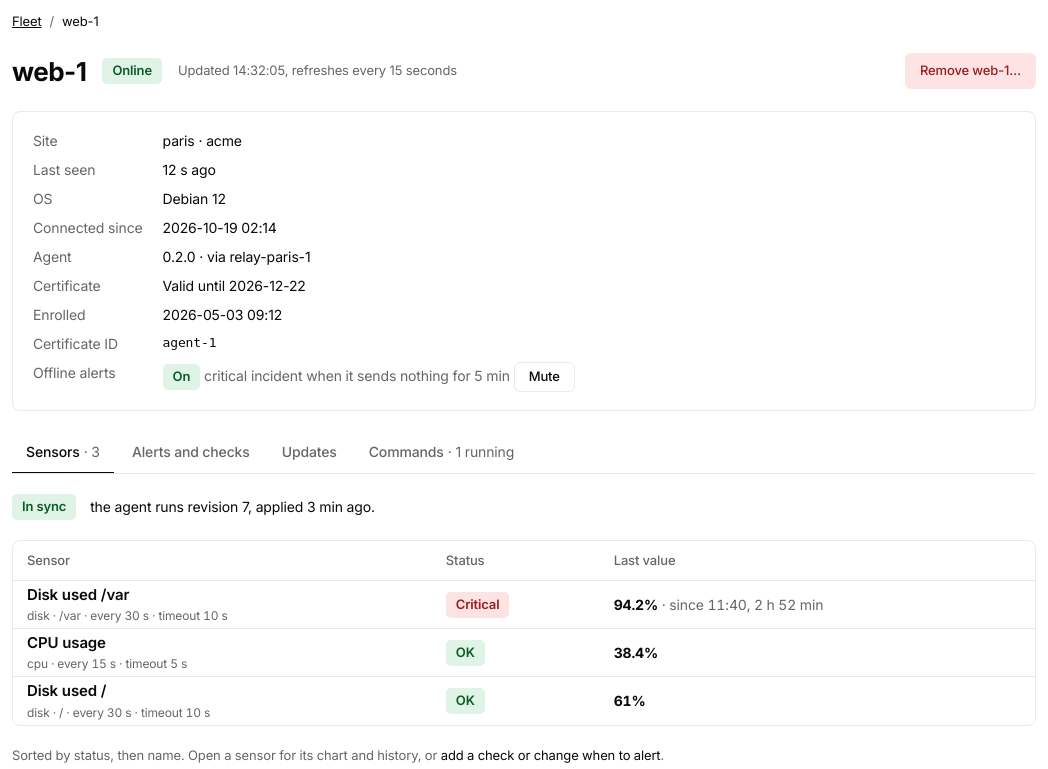
Test: ServerPage › lets administrators of the customer remove the server, then shows how to uninstall it
Click the button "Remove web-1…": coordinates (970, 71) x1=905 y1=53 x2=1036 y2=89
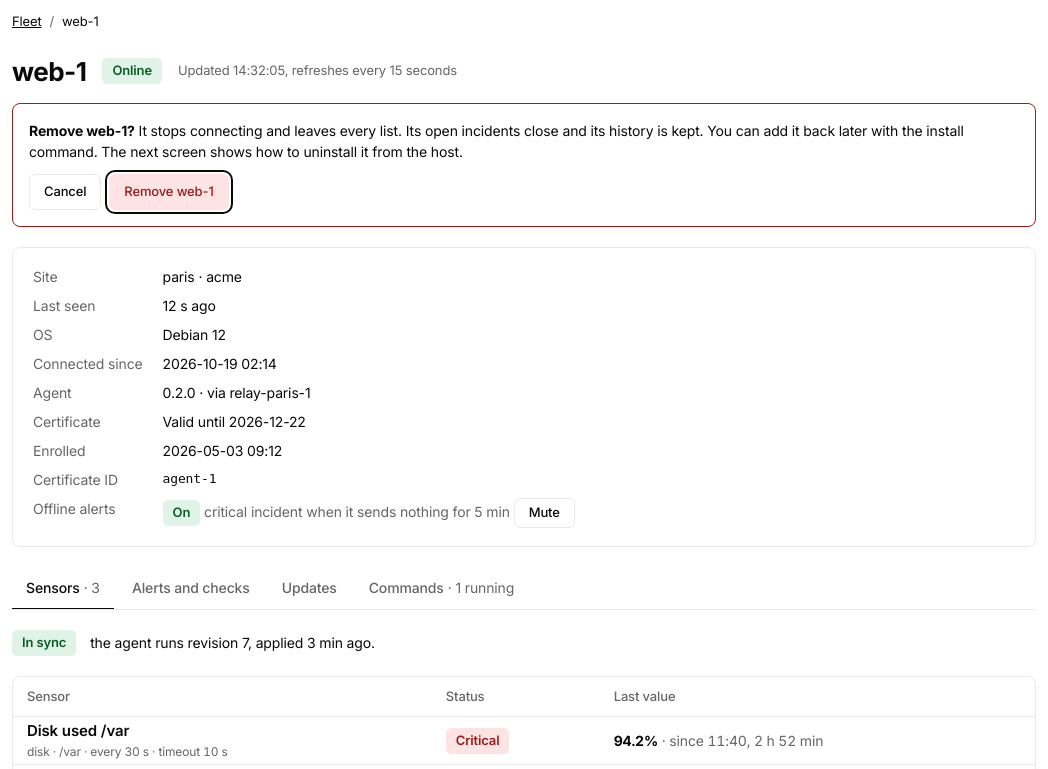
Now the form "Remove web-1?" shows "history is kept", box x1=29 y1=122 x2=964 y2=160
Click the button "Remove web-1": coordinates (169, 192) x1=109 y1=174 x2=229 y2=210
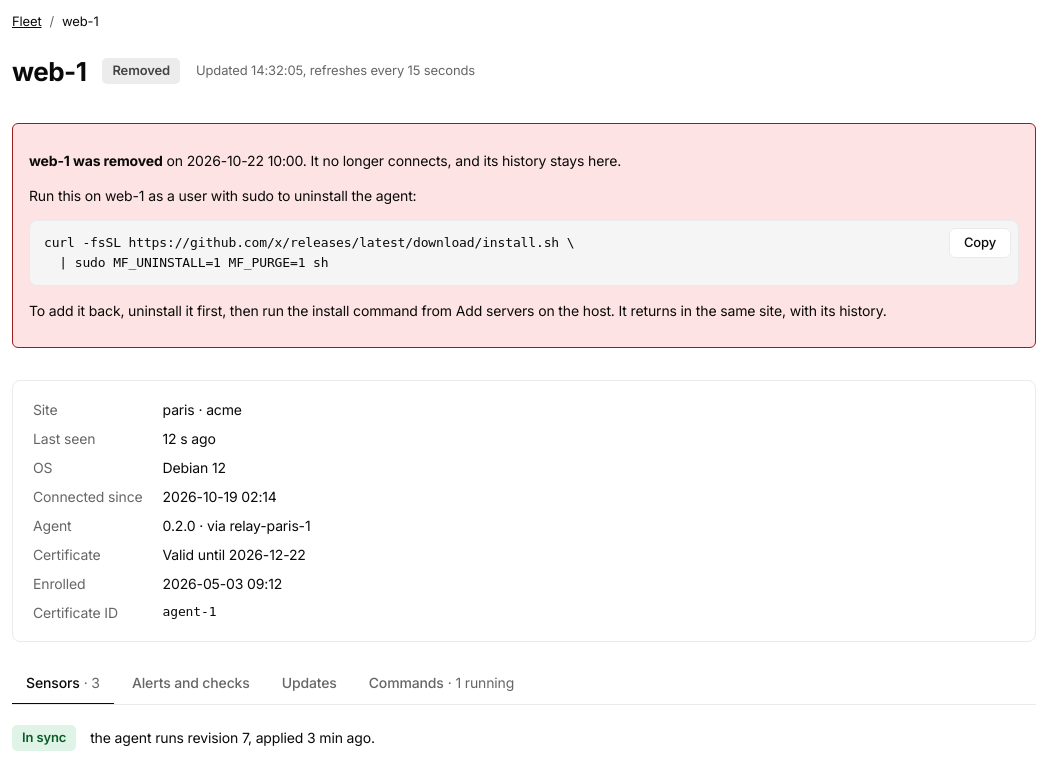
Now the text "Removed" is shown, box x1=102 y1=58 x2=180 y2=84
Now the text "MF_UNINSTALL=1 MF_PURGE=1" shows "curl -fsSL https://github.com/x/releases/latest/download/install.sh", box x1=44 y1=234 x2=574 y2=270
